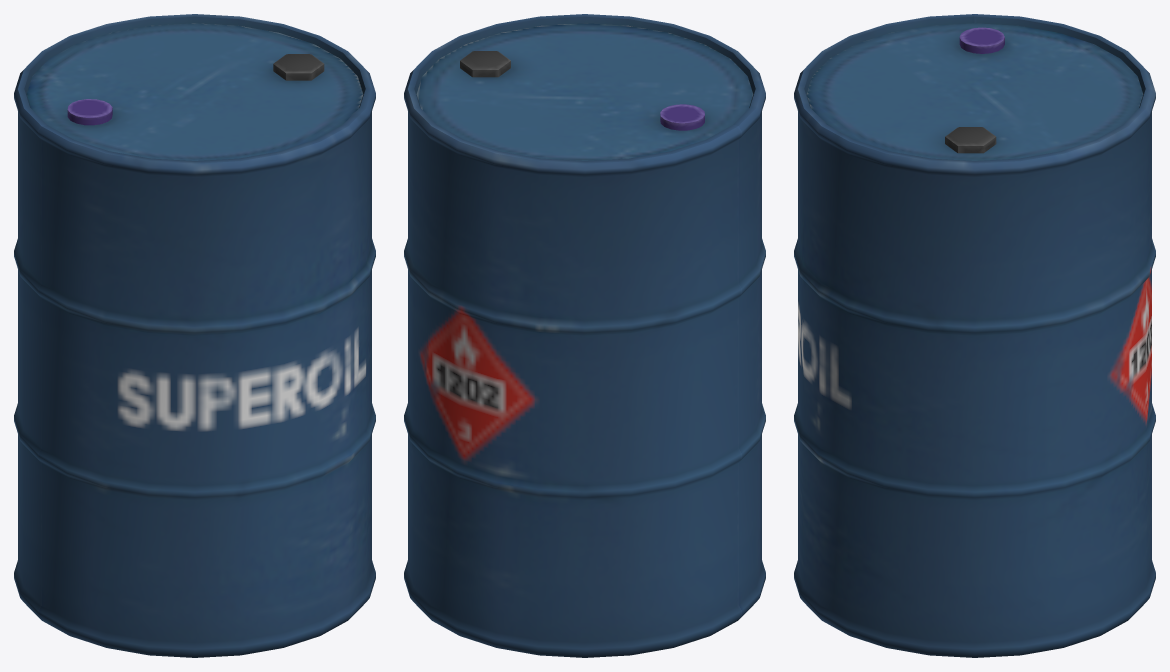
File: Barrel1.fbx
3 renders of one model, left to right at view 1: azimuth 30°, elevation 25°; view 2: azimuth 150°, elevation 25°; view 3: azimuth 270°, elevation 25°, orthographic.
Visible parts, largest first — view 1: metal_barrel_1_Mesh; view 2: metal_barrel_1_Mesh; view 3: metal_barrel_1_Mesh.
Part boxes in pixels (bbox=[...]): metal_barrel_1_Mesh: bbox=[14, 14, 375, 657]; metal_barrel_1_Mesh: bbox=[404, 14, 765, 657]; metal_barrel_1_Mesh: bbox=[794, 14, 1155, 657].
Bounding box in the file's own units: 80.19 × 122 × 80.19.
